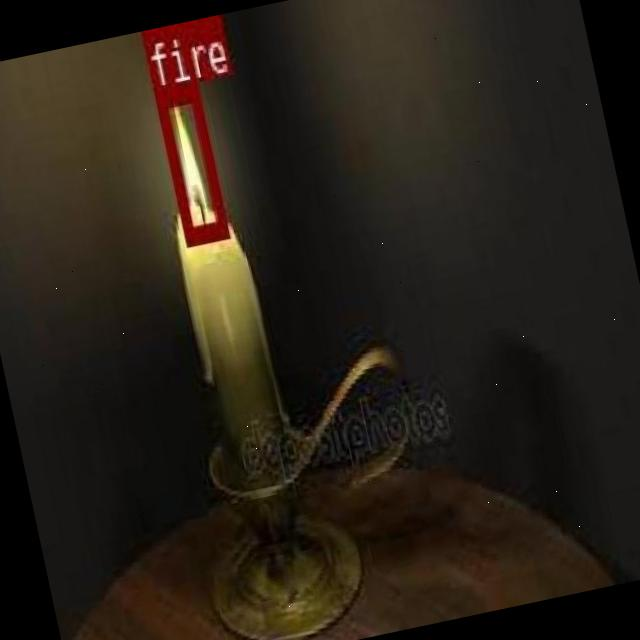fire: (152, 80, 226, 242)
